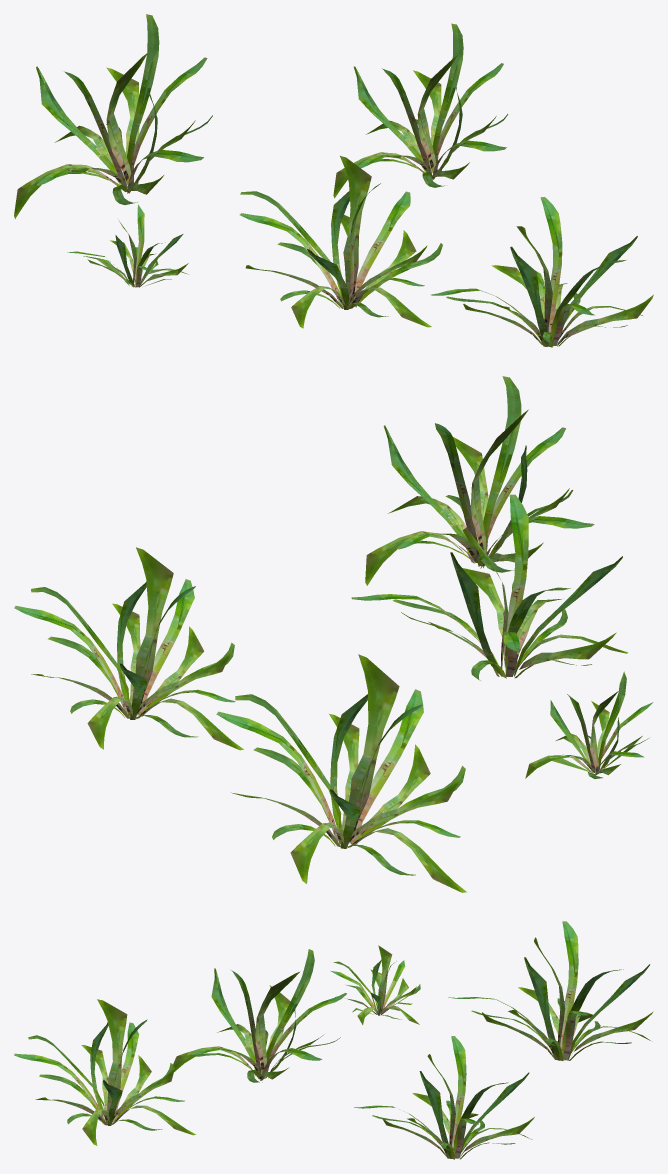
Rendered from Herb Plant Variant 4.fbx.
The picture shows the model from 3 angles, top to bottom: view 1: azimuth 30°, elevation 25°; view 2: azimuth 150°, elevation 25°; view 3: azimuth 270°, elevation 25°; orthographic projection. The views are drawn at different scales.
Parts seen in each view (by area): view 1: herb_plant_4_LOD0; view 2: herb_plant_4_LOD0; view 3: herb_plant_4_LOD0.
Part boxes in pixels (box(x1,y1,x2,y2)): herb_plant_4_LOD0: box(14, 14, 653, 347); herb_plant_4_LOD0: box(14, 376, 653, 892); herb_plant_4_LOD0: box(14, 921, 653, 1159).
Size of what is drawn, in the model's own units: 156 by 47.99 by 212.
Materials: 1 (1 with a texture image).
